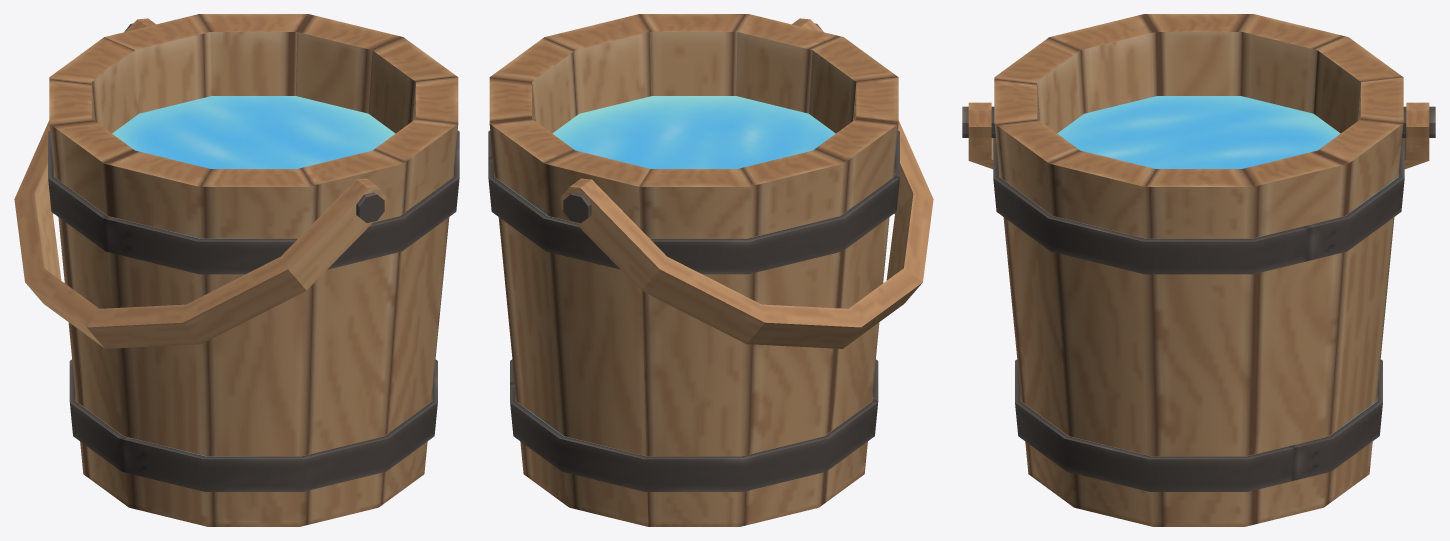
The model's file is bucket 1.fbx.
3 views of the same model, side by side, from view 1: azimuth 30°, elevation 25°; view 2: azimuth 150°, elevation 25°; view 3: azimuth 270°, elevation 25° (orthographic).
Parts seen in each view (by area): view 1: pDisc2, pDisc2.001; view 2: pDisc2, pDisc2.001; view 3: pDisc2, pDisc2.001.
Boxes of the visible parts, x1=… form: pDisc2: x1=14, y1=14, x2=459, y2=526; pDisc2.001: x1=112, y1=96, x2=395, y2=168; pDisc2: x1=488, y1=14, x2=933, y2=526; pDisc2.001: x1=552, y1=96, x2=835, y2=168; pDisc2: x1=962, y1=14, x2=1435, y2=526; pDisc2.001: x1=1057, y1=96, x2=1340, y2=168.
Bounding box in the file's own units: 2.22 × 2 × 2.42.
